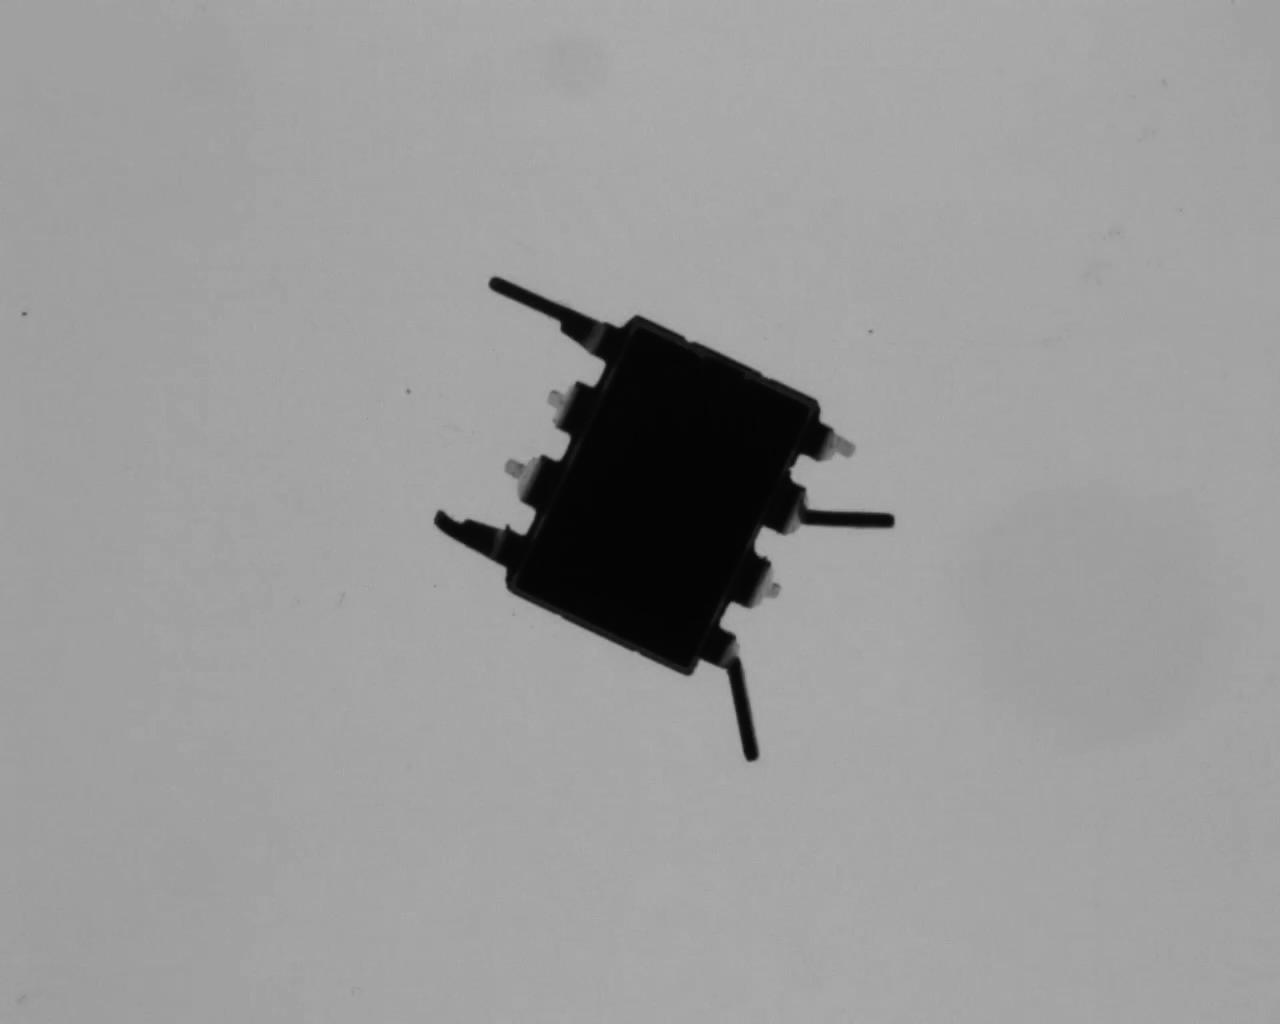Leg: (478, 272, 630, 362), (764, 479, 902, 544), (702, 626, 766, 764), (423, 505, 530, 575), (490, 450, 559, 513), (730, 538, 783, 618), (536, 380, 600, 437), (801, 419, 860, 468)
